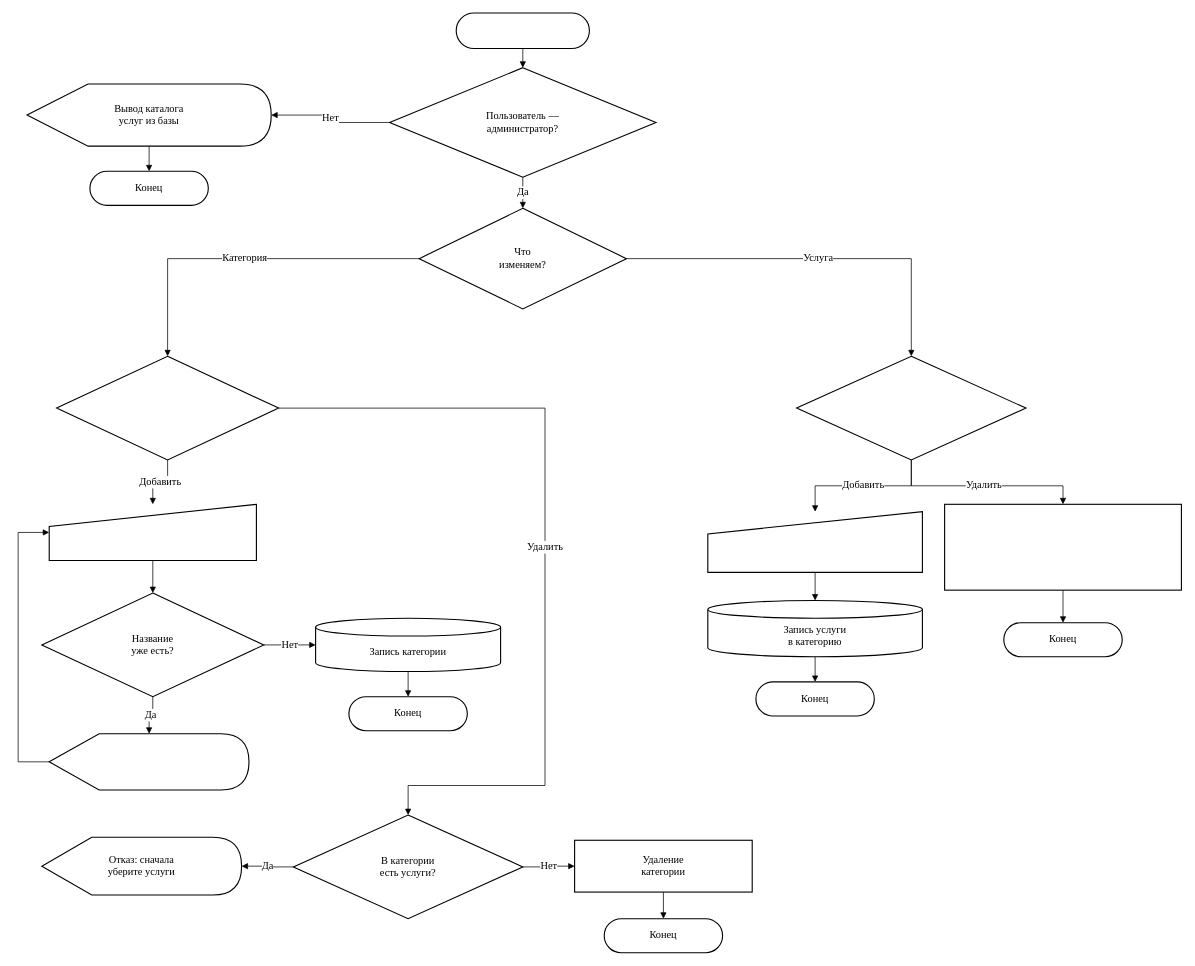
This 1195x966 diagram has some shape labels left out. Each missing label, with the centre of its shape:
Ввод карточки и изображения: (x=815, y=542)
Ввод названия категории: (x=152, y=532)
Действие с категорией?: (x=167, y=407)
Действие с услугой?: (x=911, y=407)
Категория уже существует: (x=148, y=761)
Начало: (x=522, y=30)
Удаление услуги. Название и цена в записи остаются: (x=1063, y=546)
